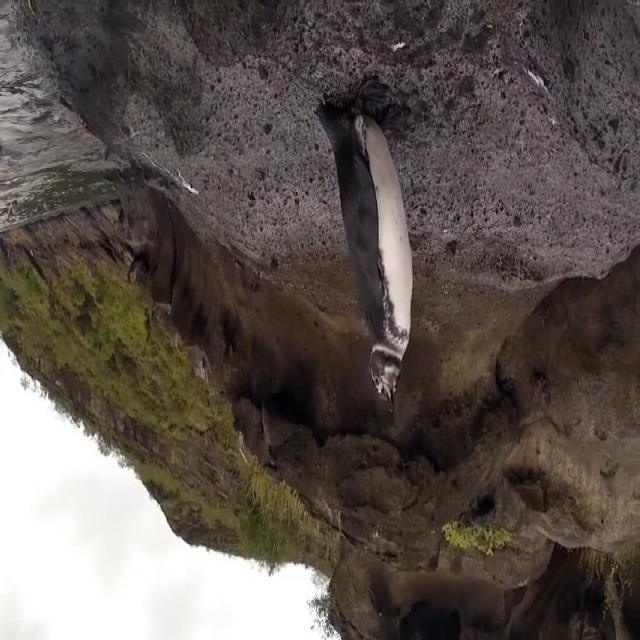penguin: (313, 75, 416, 413)
